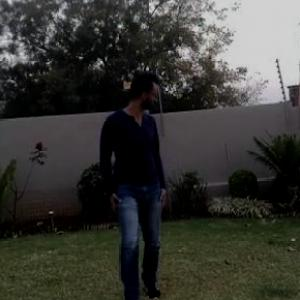follow: (93, 55, 179, 292)
